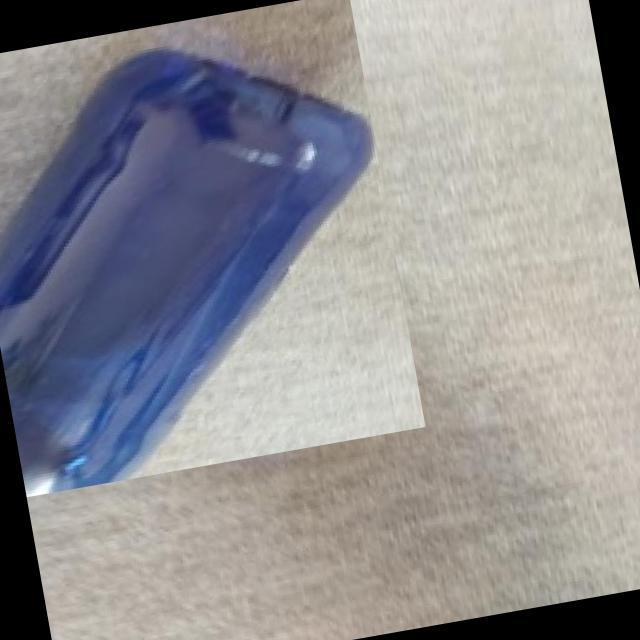good: (0, 0, 425, 496)
